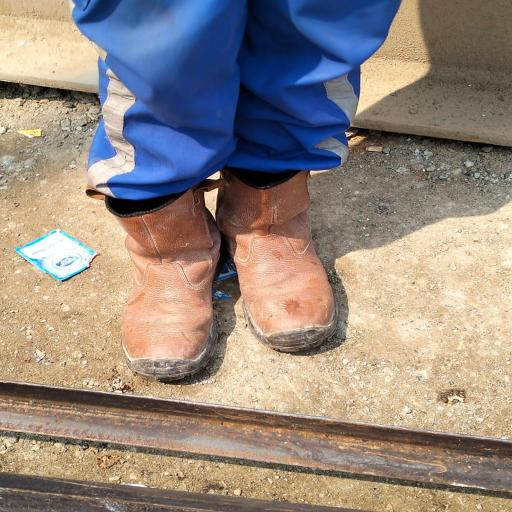safety_shoe: (98, 182, 224, 380), (216, 168, 343, 350)
